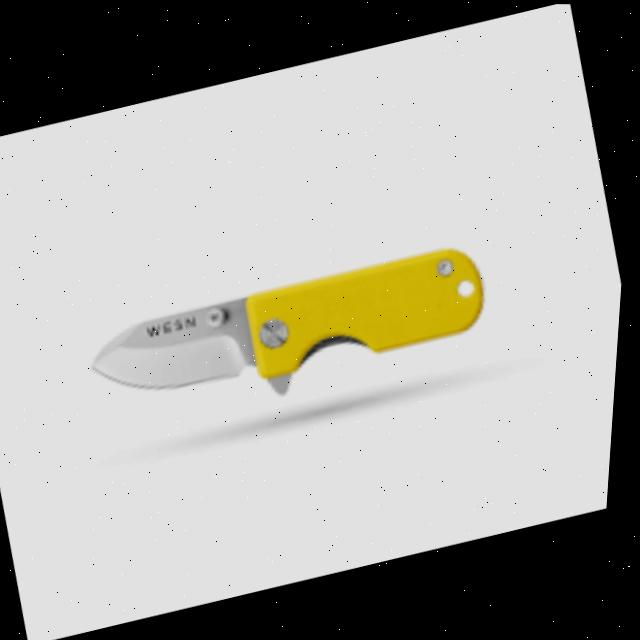Knife: (82, 235, 501, 437)
